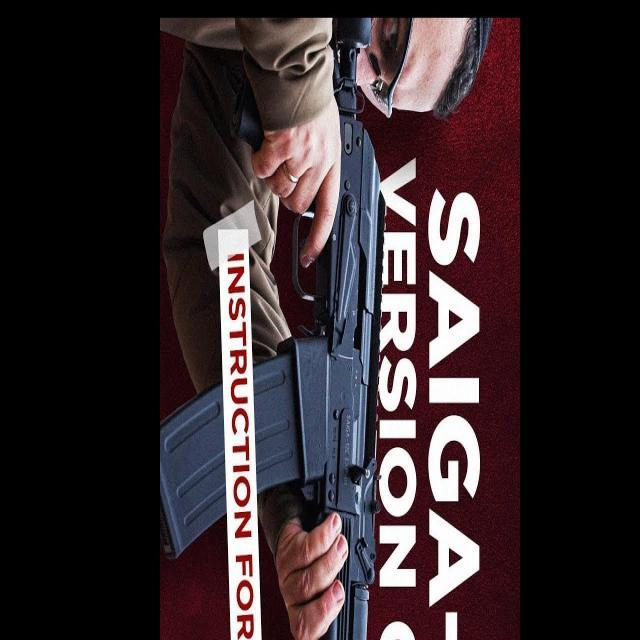weapon: (160, 17, 386, 640)
